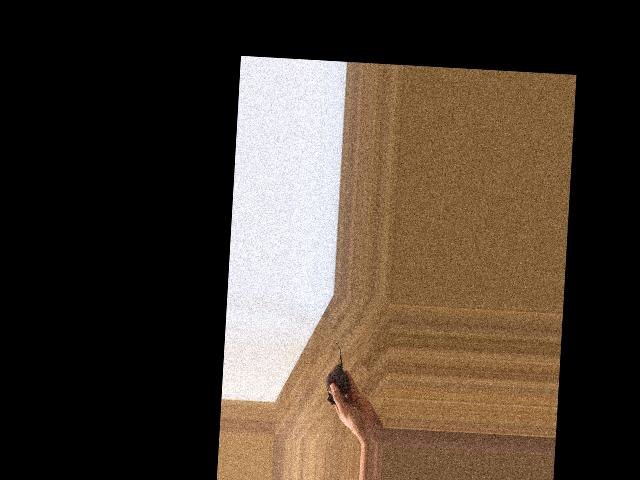beet: (325, 342, 351, 405)
